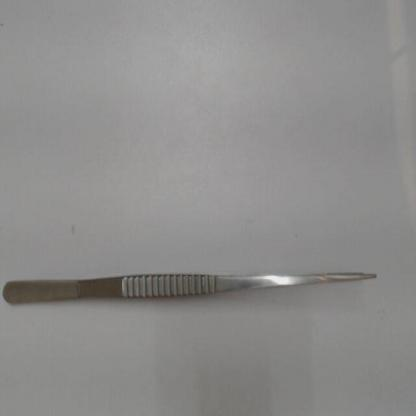DeBakey Dissector: (2, 239, 388, 318)
